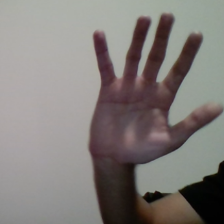left: (80, 10, 224, 184)
